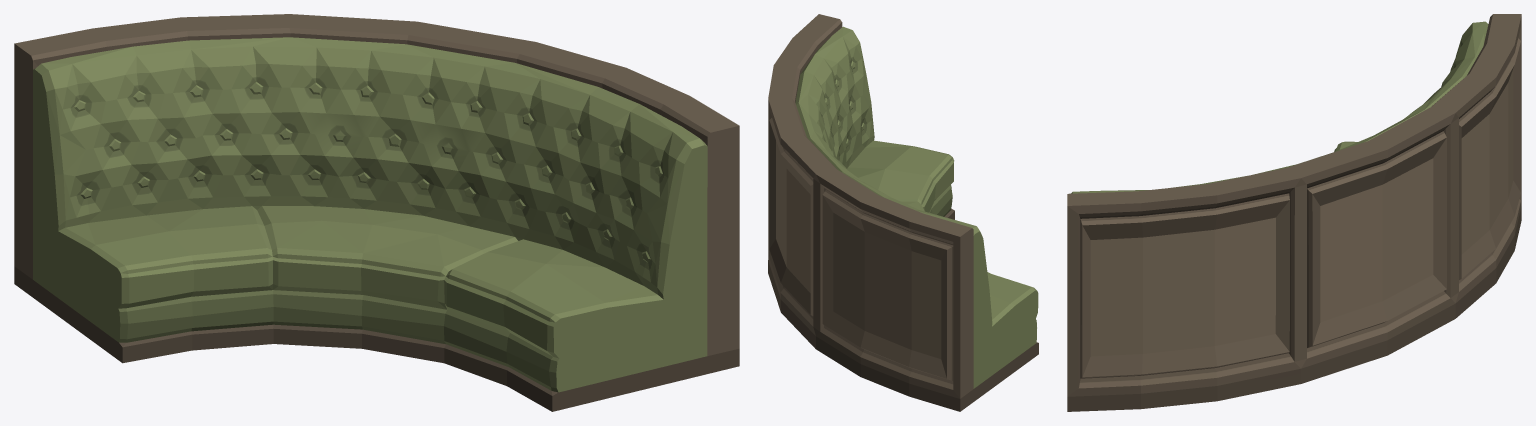
File: Prop_Sofa_01_Corner_04.fbx
3 views of the same model, side by side, from view 1: azimuth 30°, elevation 25°; view 2: azimuth 150°, elevation 25°; view 3: azimuth 270°, elevation 25° (orthographic). The views are drawn at different scales.
Parts seen in each view (by area): view 1: SM_Prop_Sofa_01_Corner_04; view 2: SM_Prop_Sofa_01_Corner_04; view 3: SM_Prop_Sofa_01_Corner_04.
Part boxes in pixels (bbox=[...]): SM_Prop_Sofa_01_Corner_04: bbox=[14, 14, 739, 411]; SM_Prop_Sofa_01_Corner_04: bbox=[768, 14, 1038, 411]; SM_Prop_Sofa_01_Corner_04: bbox=[1067, 14, 1521, 411].
Bounding box in the file's own units: 200 × 100 × 200.
